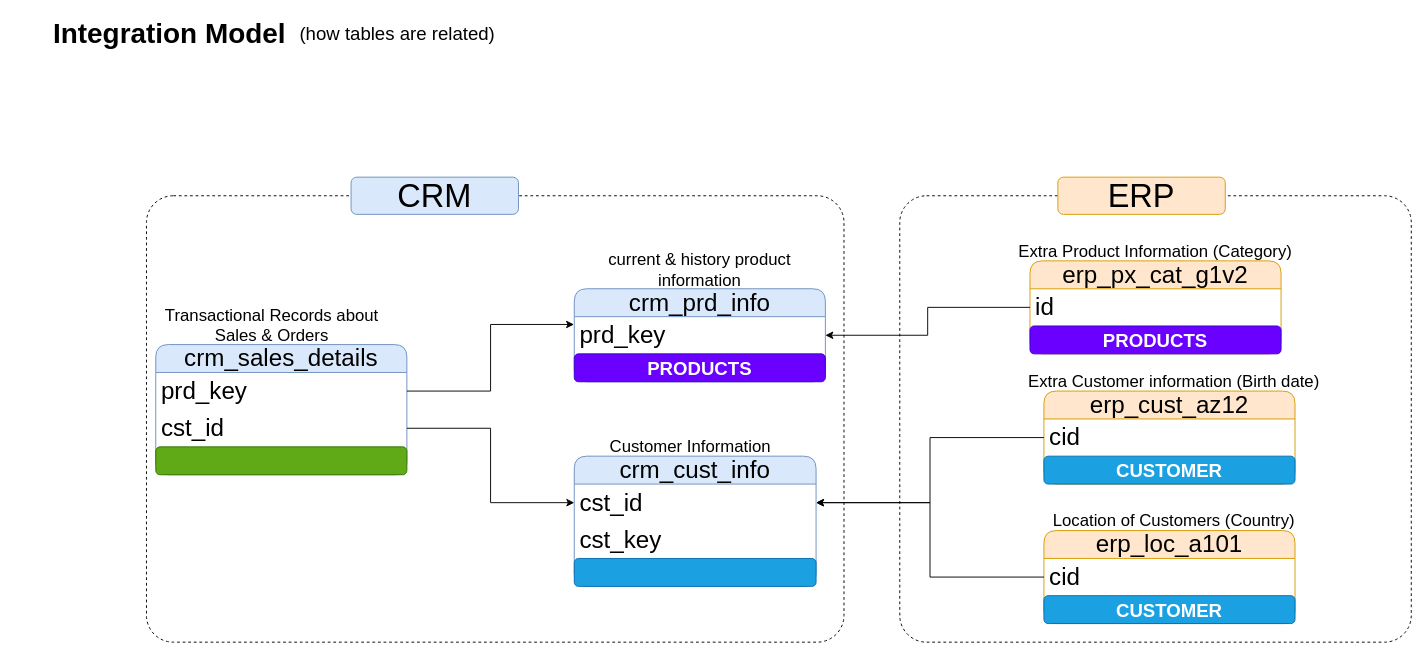
This 1428x658 diagram has some shape labels left out. Each missing label, with the centre of its shape:
"CUSTOMERS" belongs at pixel 694 572.
"SALES" belongs at pixel 281 460.
